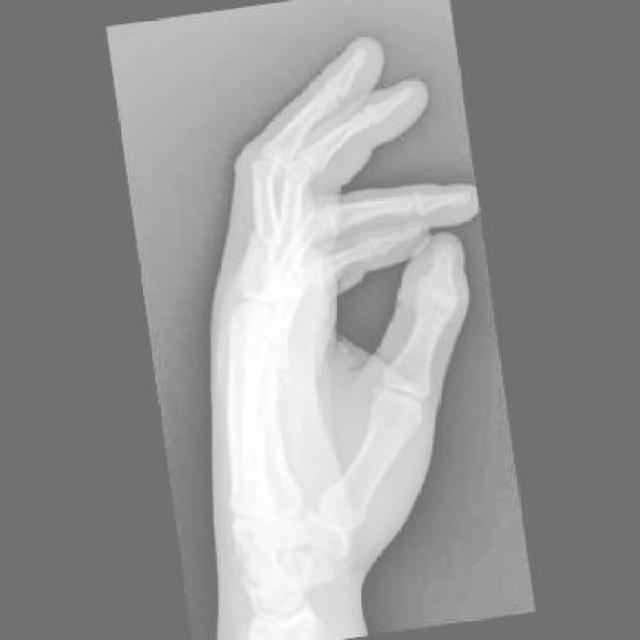Fracture: (243, 223, 279, 262), (256, 245, 296, 279)
